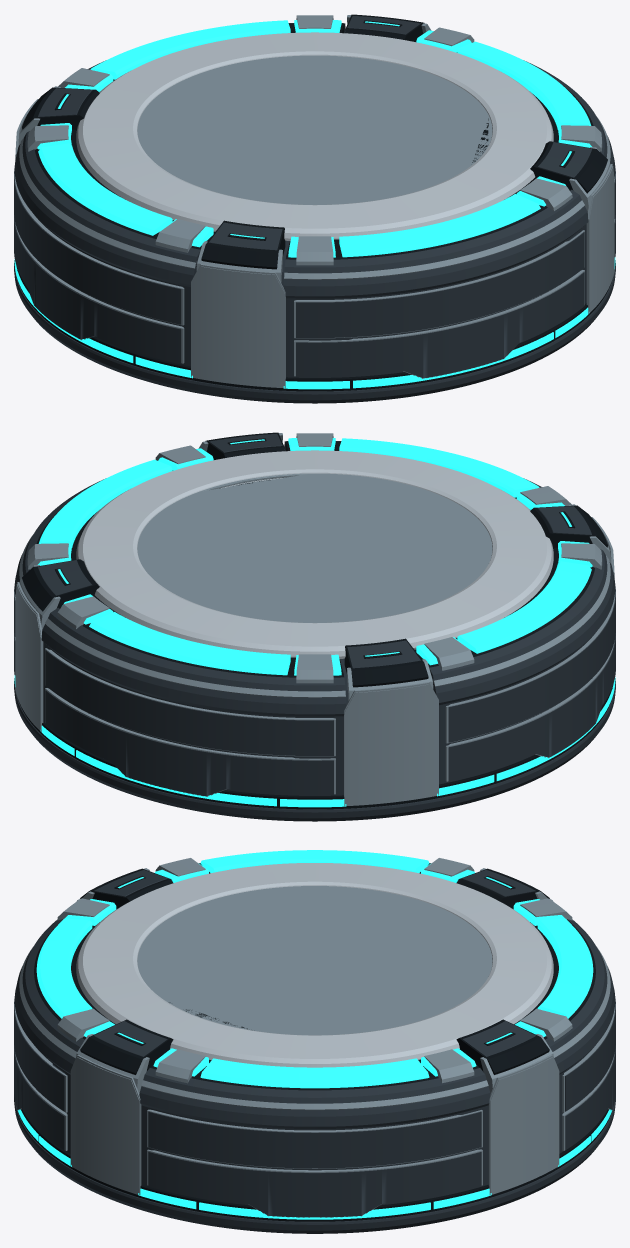
File: Heavy.fbx
3 views of the same model, one above another, from view 1: azimuth 30°, elevation 25°; view 2: azimuth 150°, elevation 25°; view 3: azimuth 270°, elevation 25° (orthographic).
Visible parts, largest first — view 1: SM_Puck_Heavy_HighDetail; view 2: SM_Puck_Heavy_HighDetail; view 3: SM_Puck_Heavy_HighDetail.
Part boxes in pixels (box(x1,y1,x2,y2)): SM_Puck_Heavy_HighDetail: box(14, 14, 615, 403); SM_Puck_Heavy_HighDetail: box(14, 432, 615, 821); SM_Puck_Heavy_HighDetail: box(14, 850, 615, 1233).
Bounding box in the file's own units: 97.5 × 97.5 × 27.3.
